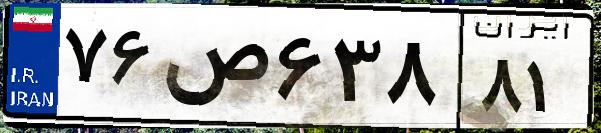1: (525, 38, 570, 115)
3: (330, 28, 385, 110)
6: (270, 28, 330, 110), (110, 28, 158, 98)
7: (57, 26, 110, 100)
8: (385, 28, 445, 110), (475, 38, 525, 113)
ص: (158, 20, 270, 120)
